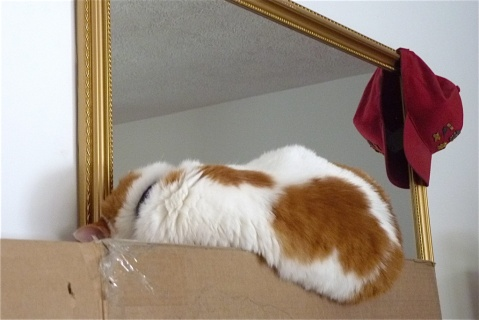Cat: (73, 141, 406, 305)
